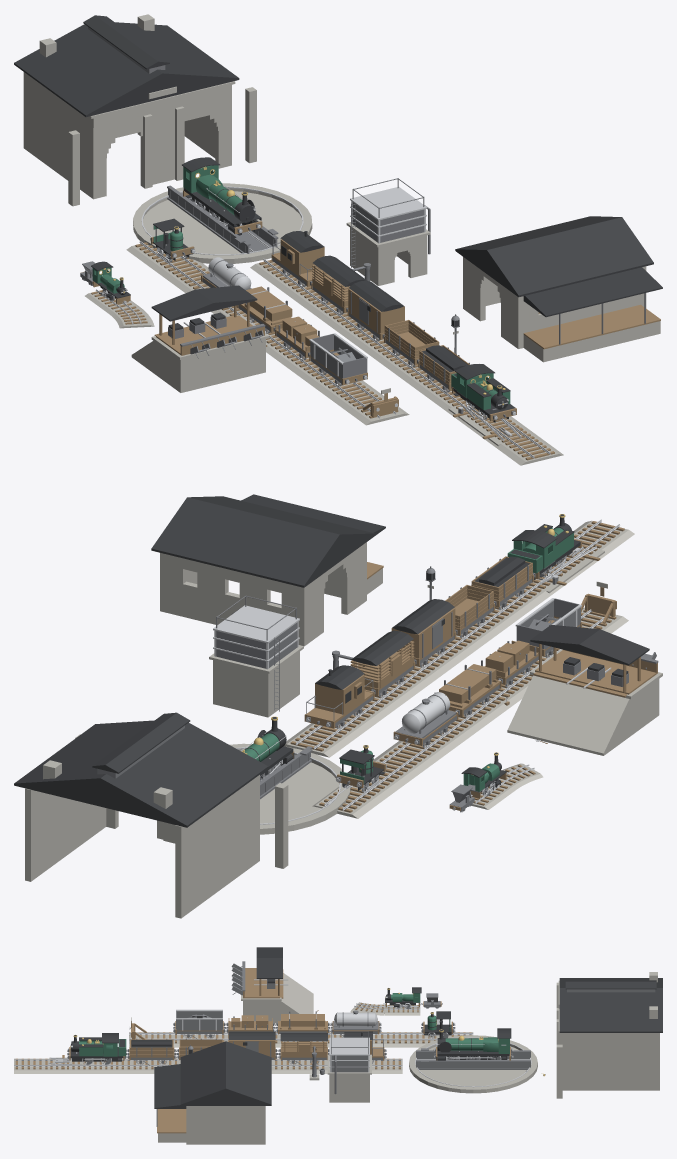
The model's file is steam-era-railway-and-rolling-stock-goods-yard-and-she-526f4a60.glb.
3 renders of one model, top to bottom at view 1: azimuth 30°, elevation 25°; view 2: azimuth 150°, elevation 25°; view 3: azimuth 270°, elevation 25°, orthographic. The views are drawn at different scales.
Visible parts, largest first — view 1: 021-engine-shed-frontage/0, 024-goods-shed/1, 021-engine-shed-frontage/2, 020-turntable/0, 022-coaling-stage/0, 024-goods-shed/0, 023-water-tower/0, 024-goods-shed/3, 023-water-tower/2, 022-coaling-stage/5, 023-water-tower/3, 020-turntable/turntable-deck/iron (+20 smaller); view 2: 021-engine-shed-frontage/2, 021-engine-shed-frontage/0, 024-goods-shed/1, 024-goods-shed/0, 022-coaling-stage/0, 023-water-tower/0, 020-turntable/0, 022-coaling-stage/1, 022-coaling-stage/5, 023-water-tower/3, 023-water-tower/2, 033-bolster-timber-wagon/0 (+28 smaller); view 3: 021-engine-shed-frontage/0, 024-goods-shed/1, 021-engine-shed-frontage/2, 024-goods-shed/0, 020-turntable/0, 022-coaling-stage/0, 020-turntable/turntable-deck/iron, 023-water-tower/0, 031-hopper-wagon/1, 023-water-tower/3, 035-goods-0-6-0-smokebox-open/0, 022-coaling-stage/5 (+27 smaller).
Boxes of the visible parts, <box> form: 021-engine-shed-frontage/0: <box>23,14,256,206</box>; 024-goods-shed/1: <box>455,216,662,317</box>; 021-engine-shed-frontage/2: <box>14,15,239,117</box>; 020-turntable/0: <box>133,183,312,263</box>; 022-coaling-stage/0: <box>131,315,269,392</box>; 024-goods-shed/0: <box>463,257,646,348</box>; 023-water-tower/0: <box>350,228,427,285</box>; 024-goods-shed/3: <box>523,304,660,349</box>; 023-water-tower/2: <box>351,178,430,268</box>; 022-coaling-stage/5: <box>151,285,257,321</box>; 023-water-tower/3: <box>350,187,427,243</box>; 020-turntable/turntable-deck/iron: <box>167,185,278,253</box>; 021-engine-shed-frontage/2: <box>14,712,268,827</box>; 021-engine-shed-frontage/0: <box>25,734,288,918</box>; 024-goods-shed/1: <box>151,494,385,587</box>; 024-goods-shed/0: <box>160,542,366,646</box>; 022-coaling-stage/0: <box>507,649,662,755</box>; 023-water-tower/0: <box>213,651,299,717</box>; 020-turntable/0: <box>229,743,350,834</box>; 022-coaling-stage/1: <box>533,643,657,697</box>; 022-coaling-stage/5: <box>530,625,649,665</box>; 023-water-tower/3: <box>213,605,299,669</box>; 023-water-tower/2: <box>216,595,297,711</box>; 033-bolster-timber-wagon/0: <box>439,664,499,710</box>; 021-engine-shed-frontage/0: <box>556,972,659,1098</box>; 024-goods-shed/1: <box>154,1041,271,1108</box>; 021-engine-shed-frontage/2: <box>559,978,662,1032</box>; 024-goods-shed/0: <box>186,1106,265,1144</box>; 020-turntable/0: <box>409,1035,537,1093</box>; 022-coaling-stage/0: <box>241,973,313,1023</box>; 020-turntable/turntable-deck/iron: <box>416,1048,530,1069</box>; 023-water-tower/0: <box>329,1074,369,1102</box>; 031-hopper-wagon/1: <box>173,1010,225,1038</box>; 023-water-tower/3: <box>329,1037,369,1072</box>; 035-goods-0-6-0-smokebox-open/0: <box>437,1028,511,1059</box>; 022-coaling-stage/5: <box>256,947,282,978</box>.
Size of the model in its own units: 40.55 by 10.55 by 73.45.
